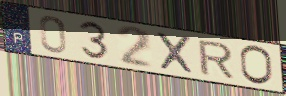0: (37, 14, 69, 54)
2: (115, 25, 156, 71)
3: (78, 19, 111, 62)
O: (238, 44, 276, 87)
R: (195, 39, 236, 80)
X: (154, 30, 197, 76)
